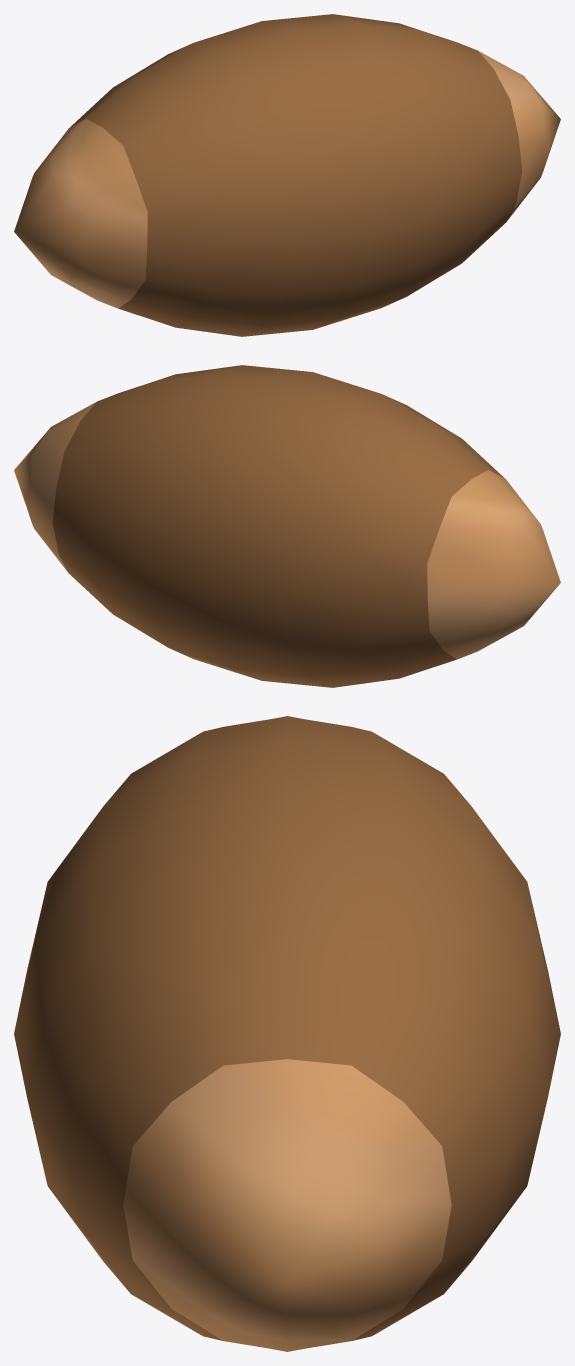
Rendered from PalmSeed.fbx.
3 views of the same model, one above another, from view 1: azimuth 30°, elevation 25°; view 2: azimuth 150°, elevation 25°; view 3: azimuth 270°, elevation 25° (orthographic). The views are drawn at different scales.
Parts seen in each view (by area): view 1: Bushlime; view 2: Bushlime; view 3: Bushlime.
Part boxes in pixels (<box>): Bushlime: <box>14,14,560,336</box>; Bushlime: <box>14,365,560,687</box>; Bushlime: <box>14,716,560,1351</box>.
Size of the model in its own units: 0.7402 by 0.3688 by 0.369.
